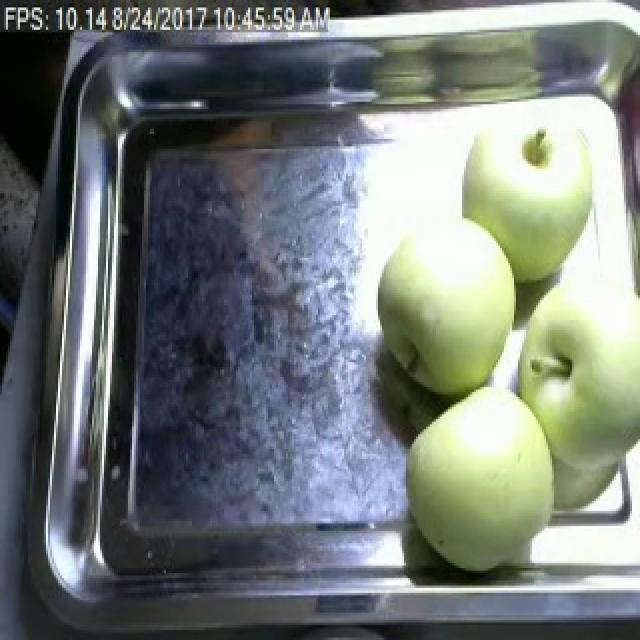50-_ripeness: (393, 389, 557, 567), (360, 228, 518, 410), (459, 112, 603, 273), (530, 275, 640, 467)
